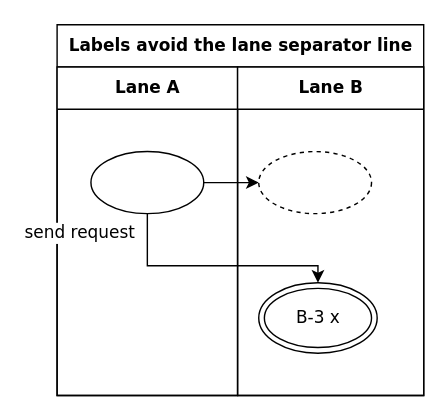
The diagram is 448 pixels wide and 420 high, and some of its shapes have lost their labels. The centre of each missing label's shape, as x and y in pixels:
"A-1 x" belongs at (147,182).
"B-2 x" belongs at (314,182).
